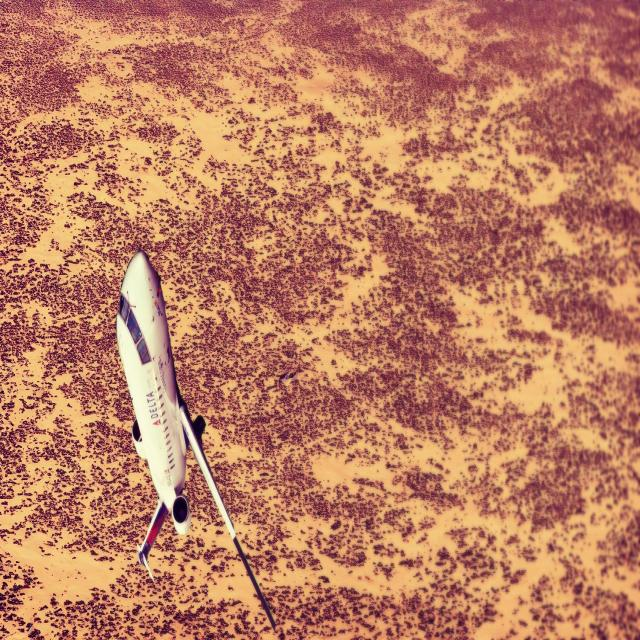airplane: (115, 248, 277, 632)
